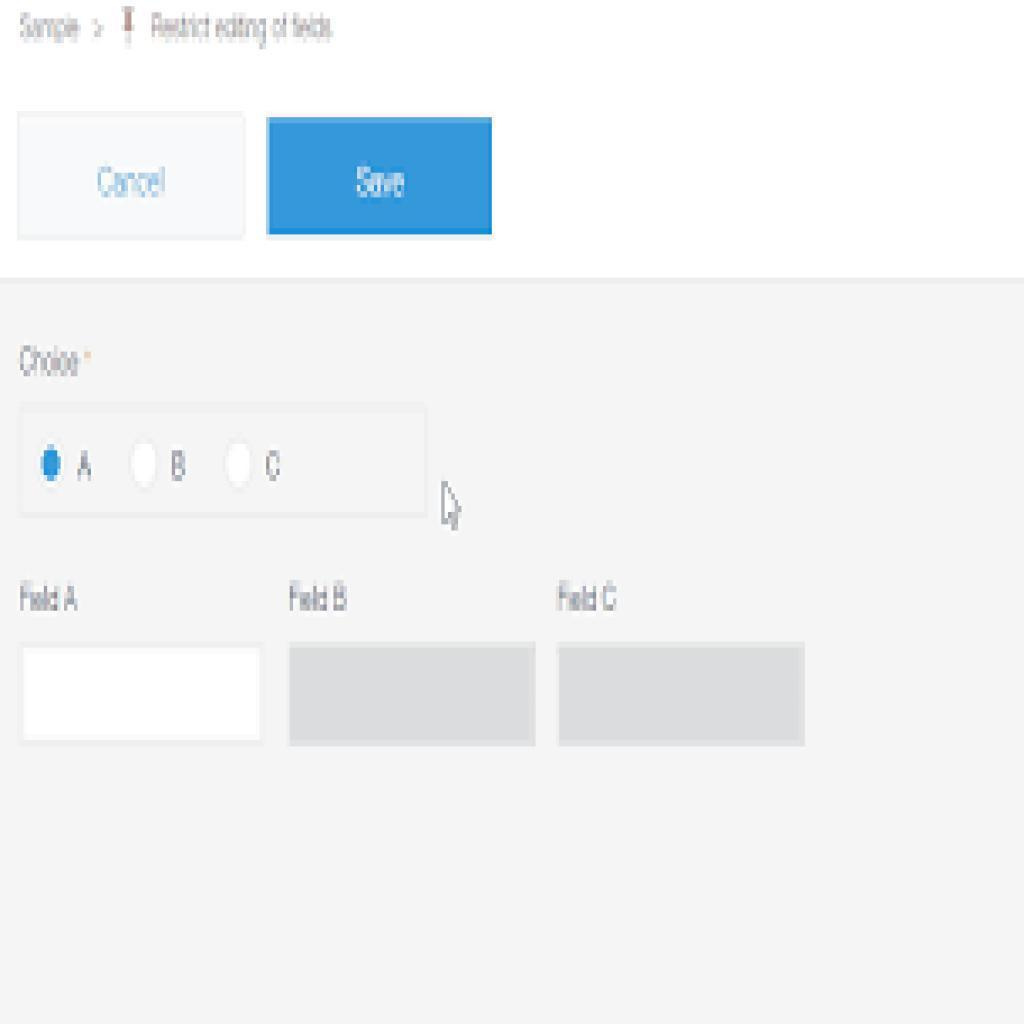button: (17, 111, 247, 238), (270, 117, 494, 238)
input: (292, 644, 538, 748), (556, 644, 801, 741), (21, 649, 268, 741)
radio: (129, 432, 164, 493), (35, 428, 66, 491), (223, 435, 256, 492)
